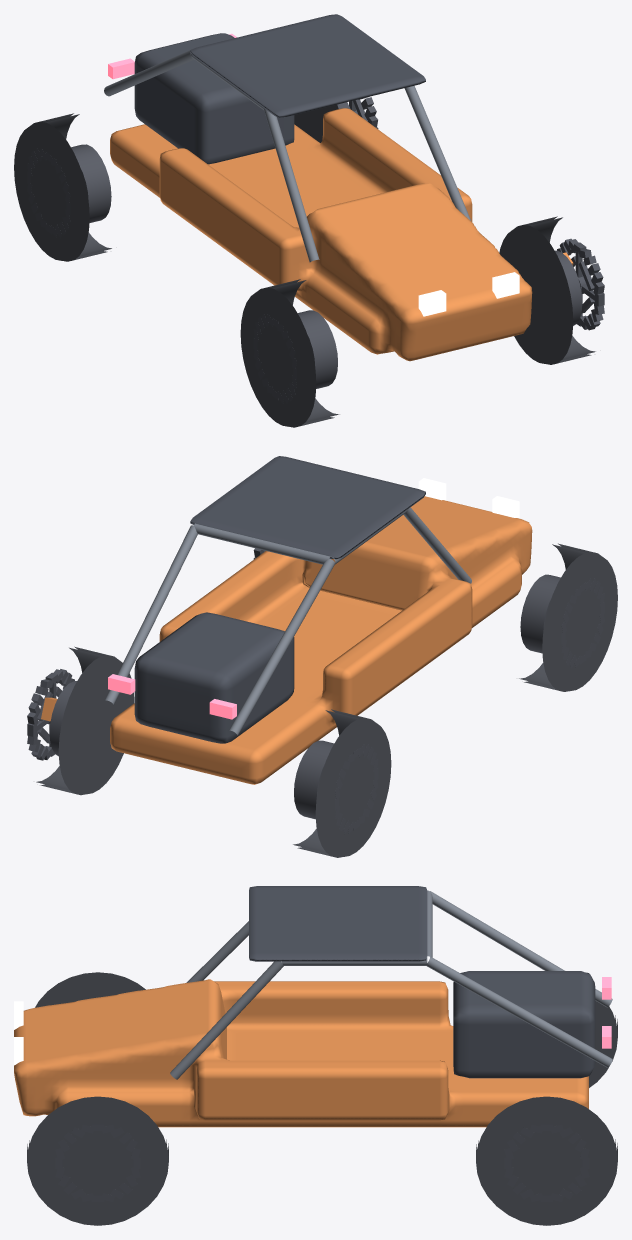
Rendered from dunerunner.glb.
3 renders of one model, top to bottom at view 1: azimuth 30°, elevation 25°; view 2: azimuth 150°, elevation 25°; view 3: azimuth 270°, elevation 25°, orthographic.
Visible parts, largest first — view 1: Bodywork, CarbonAero, TireRubber, ForgedRim, ChromeTrim, HeadlightLED; view 2: Bodywork, CarbonAero, TireRubber, ForgedRim, ChromeTrim, HeadlightLED, TaillightLED; view 3: Bodywork, TireRubber, CarbonAero, ChromeTrim, ForgedRim, HeadlightLED.
Part boxes in pixels (x1,y1,x2,y2): Bodywork: [110, 108, 532, 361]; CarbonAero: [134, 14, 425, 164]; TireRubber: [14, 104, 595, 427]; ForgedRim: [27, 96, 604, 403]; ChromeTrim: [104, 50, 471, 262]; HeadlightLED: [418, 272, 519, 316]; Bodywork: [110, 496, 532, 784]; CarbonAero: [134, 456, 425, 743]; TireRubber: [36, 543, 617, 857]; ForgedRim: [27, 548, 604, 833]; ChromeTrim: [104, 507, 471, 735]; HeadlightLED: [418, 478, 519, 518]; TaillightLED: [108, 674, 236, 719]; Bodywork: [14, 979, 588, 1127]; TireRubber: [27, 972, 617, 1225]; CarbonAero: [249, 886, 595, 1078]; ChromeTrim: [170, 890, 612, 1079]; ForgedRim: [55, 1124, 589, 1201]; HeadlightLED: [14, 1001, 23, 1065].
Bounding box in the file's own units: 2.18 × 1.59 × 3.74.
